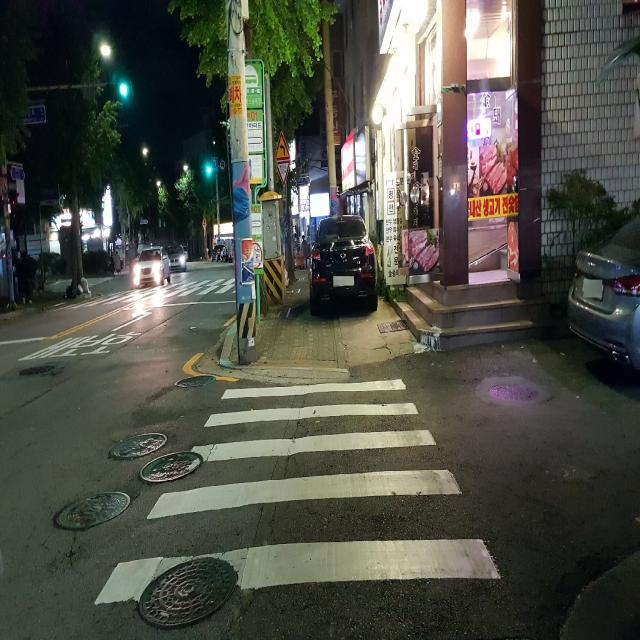초록불: (110, 288, 234, 294)
횡단보도: (93, 376, 504, 610)
